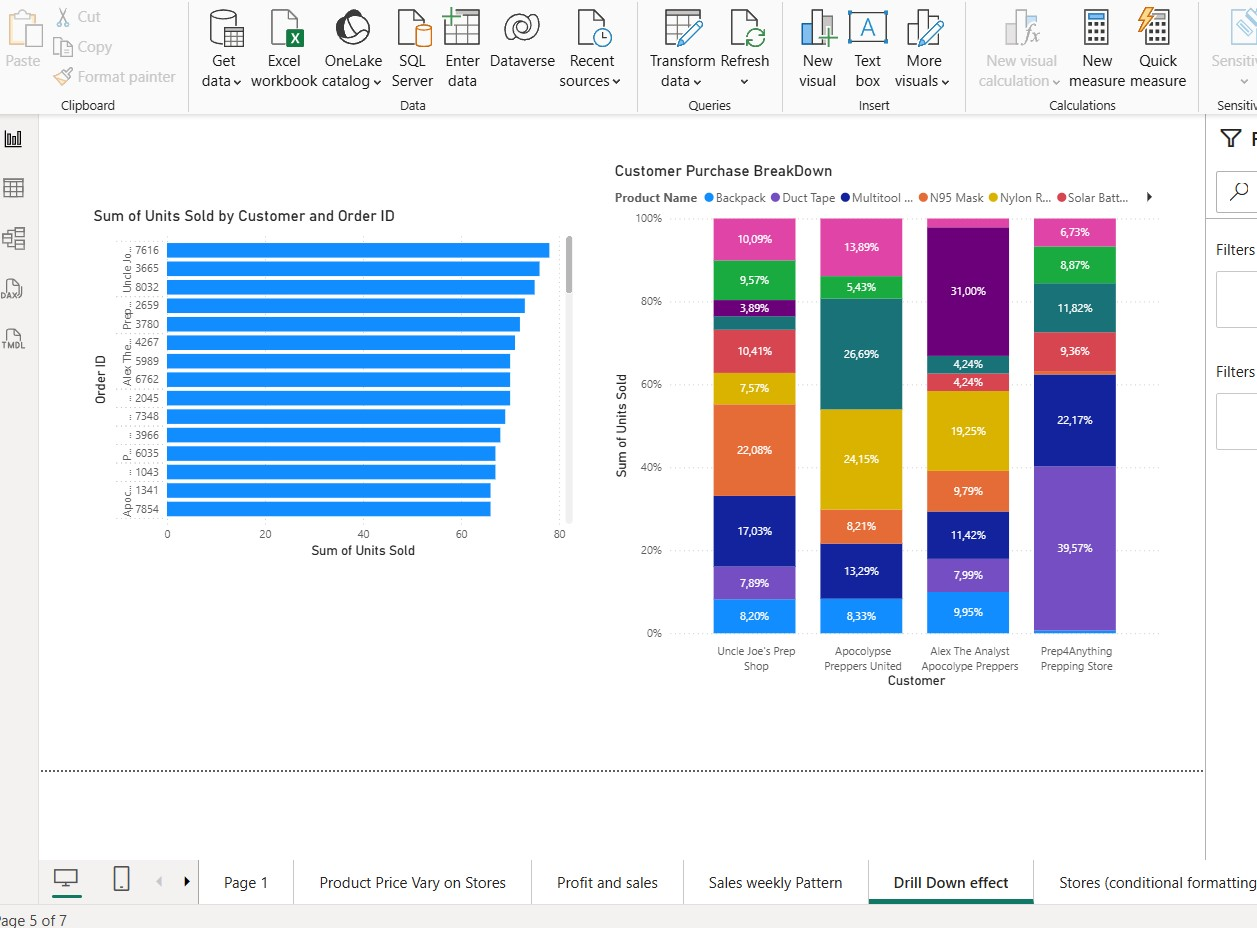

This screenshot's page, from the dashboard's own definition file:
{"tool":"powerbi","page":{"name":"Drill Down effect","canvas":[1280,720],"ordinal":3},"visuals":[{"type":"barChart","fields":{"Y":["Sum(Apocolypse Sales (2).Units Sold)"],"Category":["Apocolypse Sales (2).Customer","Apocolypse Sales (2).Order ID"]},"box":[55.3,101.6,536.3,391.4],"z":0},{"type":"hundredPercentStackedColumnChart","title":"Customer Purchase BreakDown","fields":{"Category":["Customer Information (2).Customer"],"Y":["Sum(Apocolypse Sales (2).Units Sold)"],"Series":["Apocolypse Store (2).Product Name"]},"box":[627.5,52.3,611,582.6],"z":1000}]}

Visuals, with their boxes on the page's 1280x720 design canvas (x1, y1, x2, y2). These are canvas units, not pixel positions in the 1257x928 screenshot, which may show the page scaled, cropped or inside an application window:
barChart - Sum(Apocolypse Sales (2).Units Sold) x Apocolypse Sales (2).Customer: left=55, top=102, right=592, bottom=493
"Customer Purchase BreakDown" hundredPercentStackedColumnChart: left=628, top=52, right=1238, bottom=635
